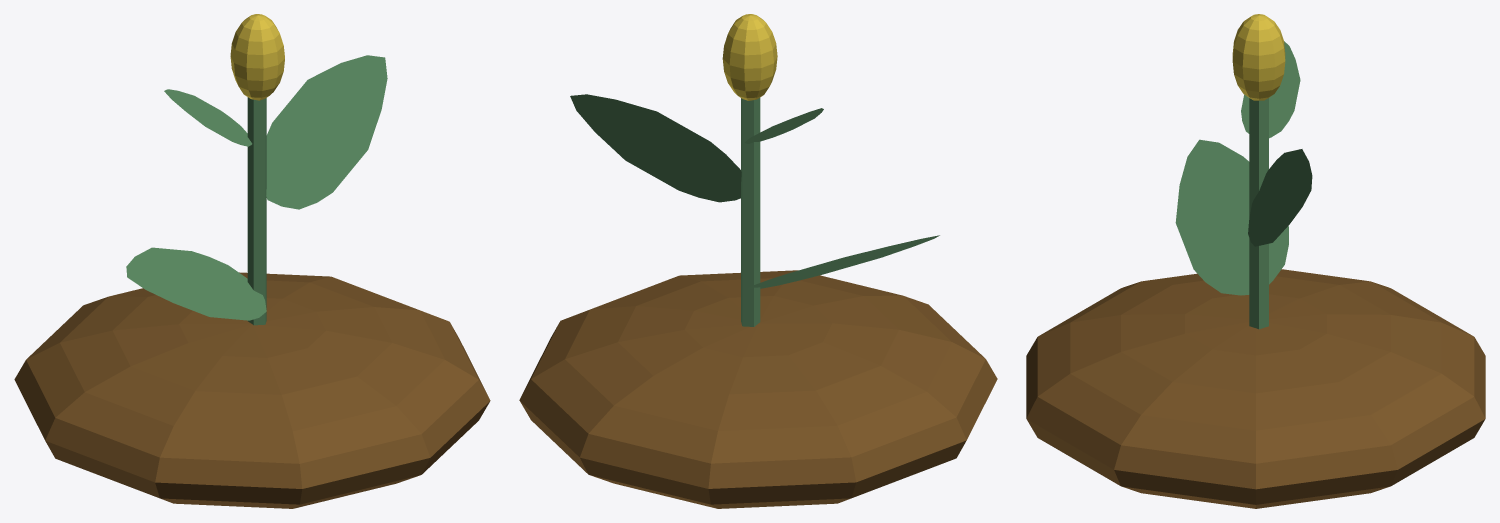
File: Plant_2.fbx
3 renders of one model, left to right at view 1: azimuth 30°, elevation 25°; view 2: azimuth 150°, elevation 25°; view 3: azimuth 270°, elevation 25°, orthographic.
Parts seen in each view (by area): view 1: Plant2, pPlane3, pPlane4, pCylinder9, Bud, pPlane5; view 2: Plant2, pPlane3, pCylinder9, Bud, pPlane4, pPlane5; view 3: Plant2, pPlane4, pPlane3, Bud, pCylinder9, pPlane5.
Boxes of the visible parts, x1,y1,x2,y2 form: Plant2: [14, 272, 490, 508]; pPlane3: [266, 55, 387, 209]; pPlane4: [126, 247, 266, 320]; pCylinder9: [247, 97, 266, 325]; Bud: [230, 14, 284, 100]; pPlane5: [164, 89, 252, 146]; Plant2: [519, 270, 997, 508]; pPlane3: [570, 94, 741, 202]; pCylinder9: [741, 98, 760, 326]; Bud: [722, 14, 777, 100]; pPlane4: [748, 235, 939, 289]; pPlane5: [745, 108, 823, 143]; Plant2: [1026, 269, 1485, 508]; pPlane4: [1175, 139, 1288, 295]; pPlane3: [1248, 149, 1312, 246]; Bud: [1232, 14, 1285, 100]; pCylinder9: [1249, 98, 1268, 329]; pPlane5: [1241, 41, 1300, 138].
Size of the model in its own units: 0.5394 by 0.5443 by 0.513.
